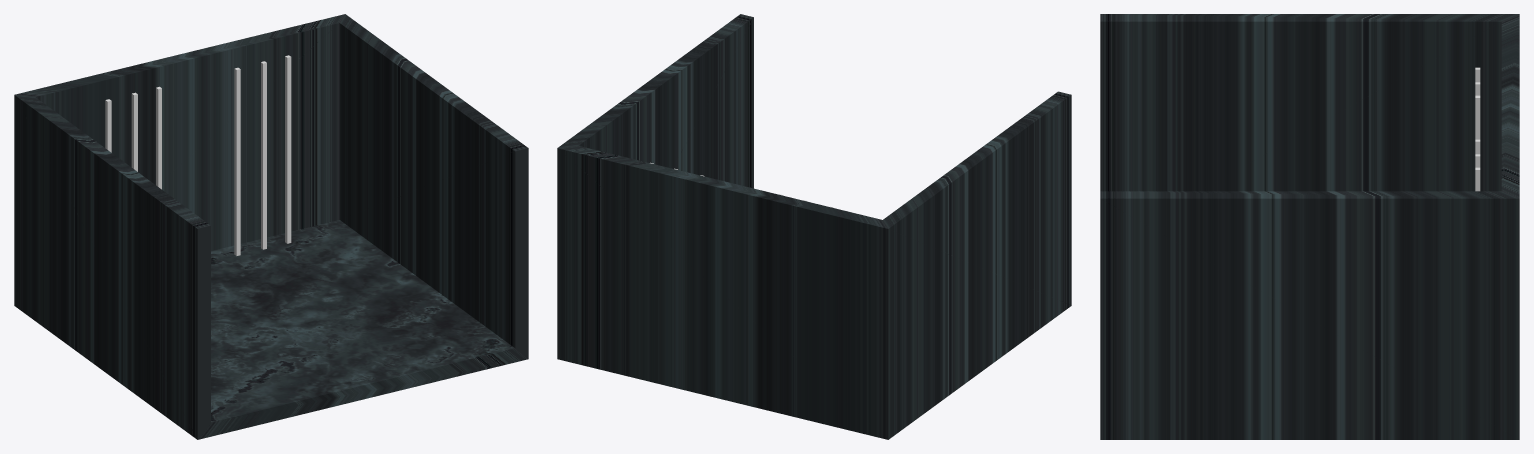
Rendered from Lobby_Map.fbx.
3 renders of one model, left to right at view 1: azimuth 30°, elevation 25°; view 2: azimuth 150°, elevation 25°; view 3: azimuth 270°, elevation 25°, orthographic. The views are drawn at different scales.
Visible parts, largest first — view 1: Plane.001, Cube.005, Cube.004, Cube.003, Cube.001, Cube; view 2: Plane.001; view 3: Plane.001.
Part boxes in pixels (x1,y1,x2,y2): Plane.001: (14, 14, 528, 439); Cube.005: (234, 67, 240, 255); Cube.004: (285, 55, 291, 243); Cube.003: (261, 61, 266, 249); Cube.001: (156, 86, 161, 189); Cube: (131, 92, 137, 171); Plane.001: (557, 14, 1071, 439); Plane.001: (1100, 14, 1519, 439).
Bounding box in the file's own units: 4542 × 2765 × 4356.
Materials: 4 (1 with a texture image).
